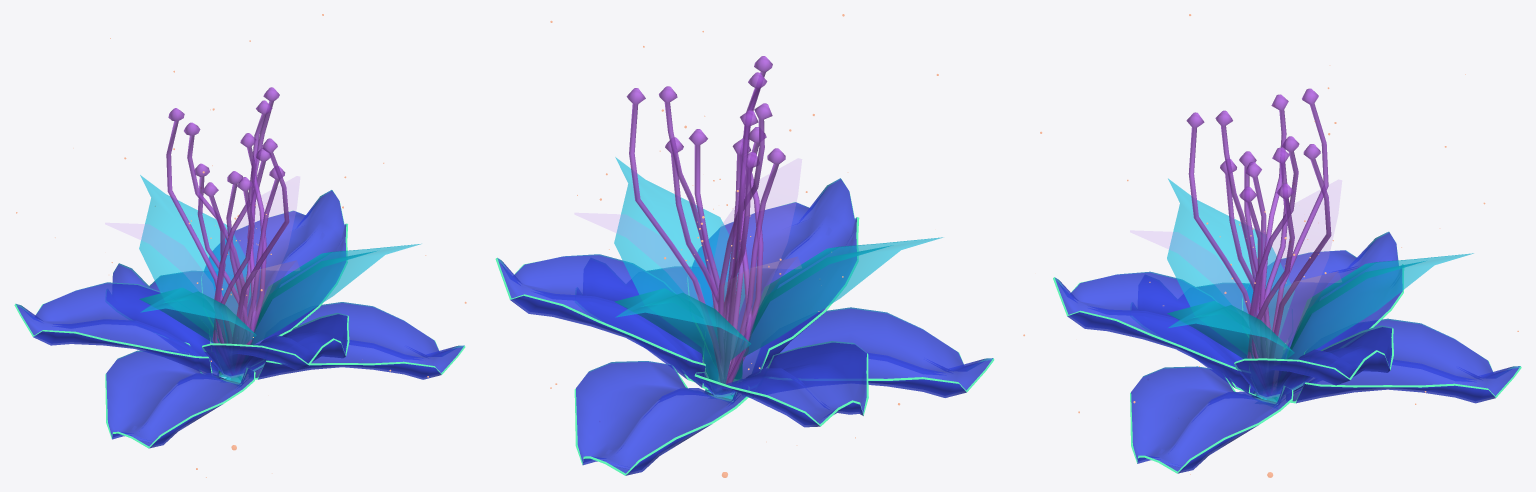
Rendered from flower.glb.
The picture shows the model from 3 angles, left to right: view 1: azimuth 30°, elevation 25°; view 2: azimuth 150°, elevation 25°; view 3: azimuth 270°, elevation 25°; orthographic projection. The views are drawn at different scales.
Parts seen in each view (by area): view 1: Plane.007, Plane.003, Plane.006, Plane, Plane.004, Plane.008, Plane.005, Vert.001, Vert.002, Plane.009, Plane.001, Vert (+3 smaller); view 2: Plane.005, Plane.002, Plane.003, Plane.008, Plane.006, Plane.007, Plane.009, Plane, Vert, Vert.002, Plane.010, Vert.001 (+3 smaller); view 3: Plane.004, Plane.005, Plane.007, Plane.002, Plane.009, Plane, Plane.003, Plane.011, Vert, Vert.002, Vert.001, Plane.008 (+3 smaller).
Part boxes in pixels (x1=…): Plane.007: x1=14, y1=282, x2=220, y2=377; Plane.003: x1=201, y1=190, x2=347, y2=366; Plane.006: x1=105, y1=350, x2=255, y2=448; Plane: x1=139, y1=175, x2=250, y2=382; Plane.004: x1=250, y1=302, x2=465, y2=379; Plane.008: x1=225, y1=244, x2=420, y2=382; Plane.005: x1=202, y1=312, x2=349, y2=377; Vert.001: x1=202, y1=133, x2=289, y2=343; Vert.002: x1=166, y1=108, x2=248, y2=344; Plane.009: x1=139, y1=287, x2=256, y2=380; Plane.001: x1=222, y1=176, x2=299, y2=315; Vert: x1=241, y1=87, x2=285, y2=344; Plane.005: x1=687, y1=178, x2=859, y2=379; Plane.002: x1=574, y1=361, x2=749, y2=475; Plane.003: x1=495, y1=254, x2=709, y2=389; Plane.008: x1=614, y1=157, x2=744, y2=398; Plane.006: x1=743, y1=307, x2=994, y2=397; Plane.007: x1=694, y1=341, x2=868, y2=427; Plane.009: x1=723, y1=237, x2=942, y2=399; Plane: x1=614, y1=288, x2=750, y2=396; Vert: x1=626, y1=86, x2=722, y2=382; Vert.002: x1=718, y1=103, x2=772, y2=383; Plane.010: x1=714, y1=158, x2=801, y2=330; Vert.001: x1=726, y1=56, x2=785, y2=383; Plane.004: x1=1130, y1=366, x2=1293, y2=473; Plane.005: x1=1053, y1=271, x2=1256, y2=395; Plane.007: x1=1242, y1=231, x2=1403, y2=388; Plane.002: x1=1286, y1=318, x2=1521, y2=403; Plane.009: x1=1167, y1=178, x2=1294, y2=401; Plane: x1=1262, y1=253, x2=1473, y2=402; Plane.003: x1=1234, y1=325, x2=1393, y2=398; Plane.011: x1=1266, y1=180, x2=1341, y2=344; Vert: x1=1239, y1=136, x2=1331, y2=358; Vert.002: x1=1244, y1=88, x2=1328, y2=357; Vert.001: x1=1186, y1=110, x2=1271, y2=357; Plane.008: x1=1167, y1=301, x2=1294, y2=401.
Size of what is drawn, in the model's own units: 7.84 by 8.32 by 8.97.
